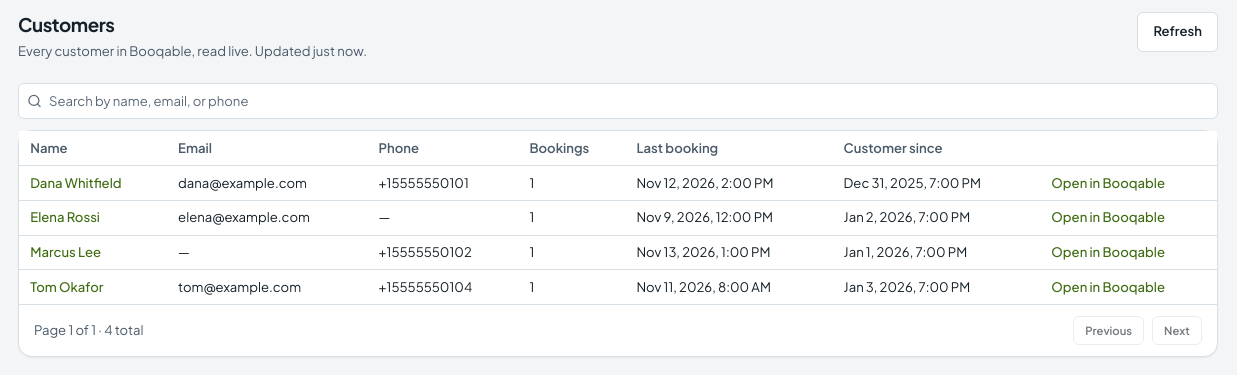
Test: CustomersPage › filters by search term
The width and height of the screenshot is (1237, 375).
Check: the link "Dana Whitfield" is shown, box x1=30 y1=174 x2=122 y2=190
In the field named "Search customers": (618, 101) x1=18 y1=83 x2=1218 y2=119, type "elena"
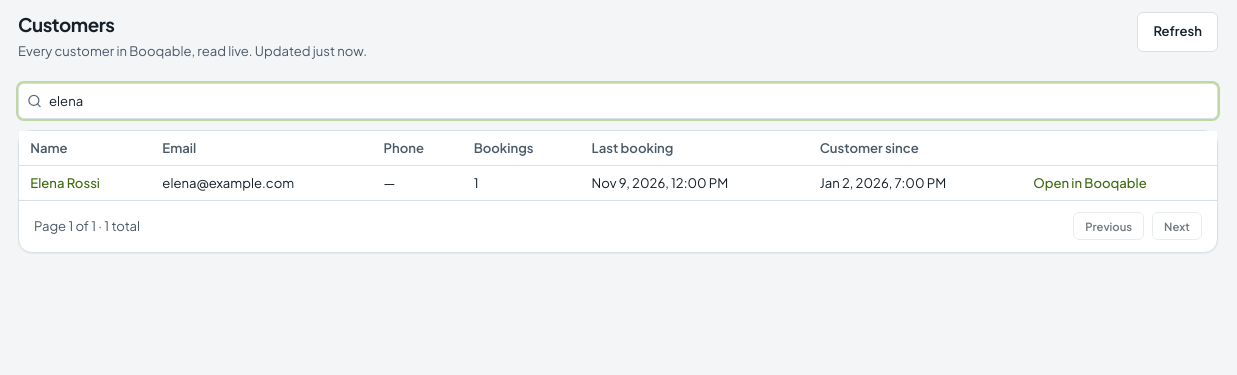
Check: the link "Elena Rossi" is shown, box x1=30 y1=174 x2=100 y2=190
Check: the link "Dana Whitfield" is gone
